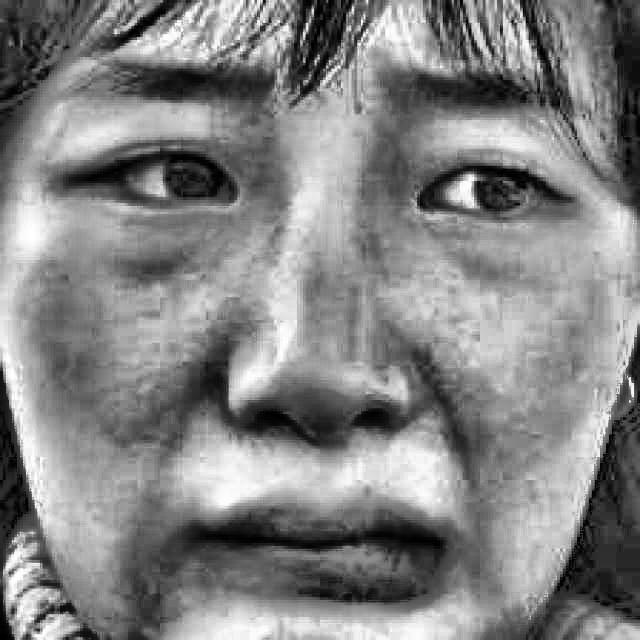fear: (38, 27, 598, 611)
